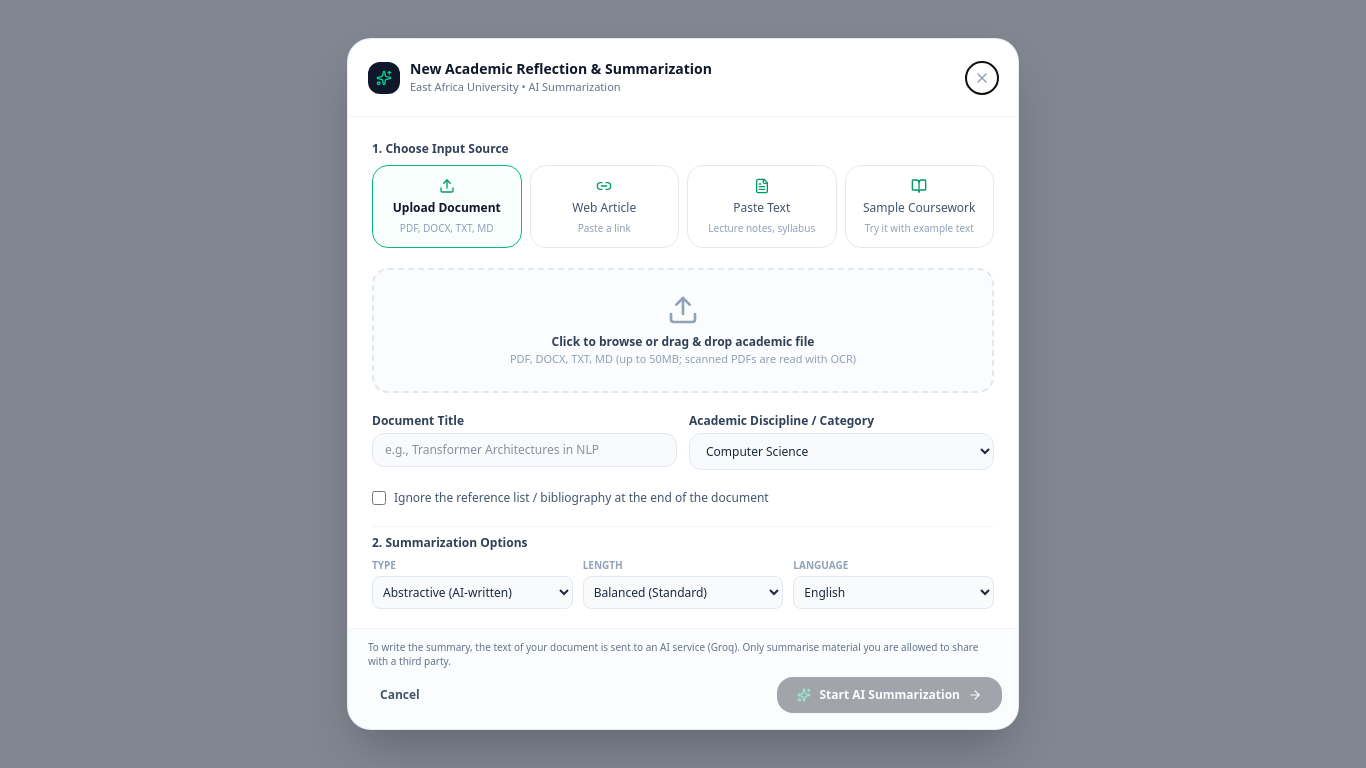
Test case: NewSummaryModal: web articles › fetches a valid link (button or Enter) and shows the page title
Click the button "Web Article Paste a link": (604, 207) [530,165,679,248]
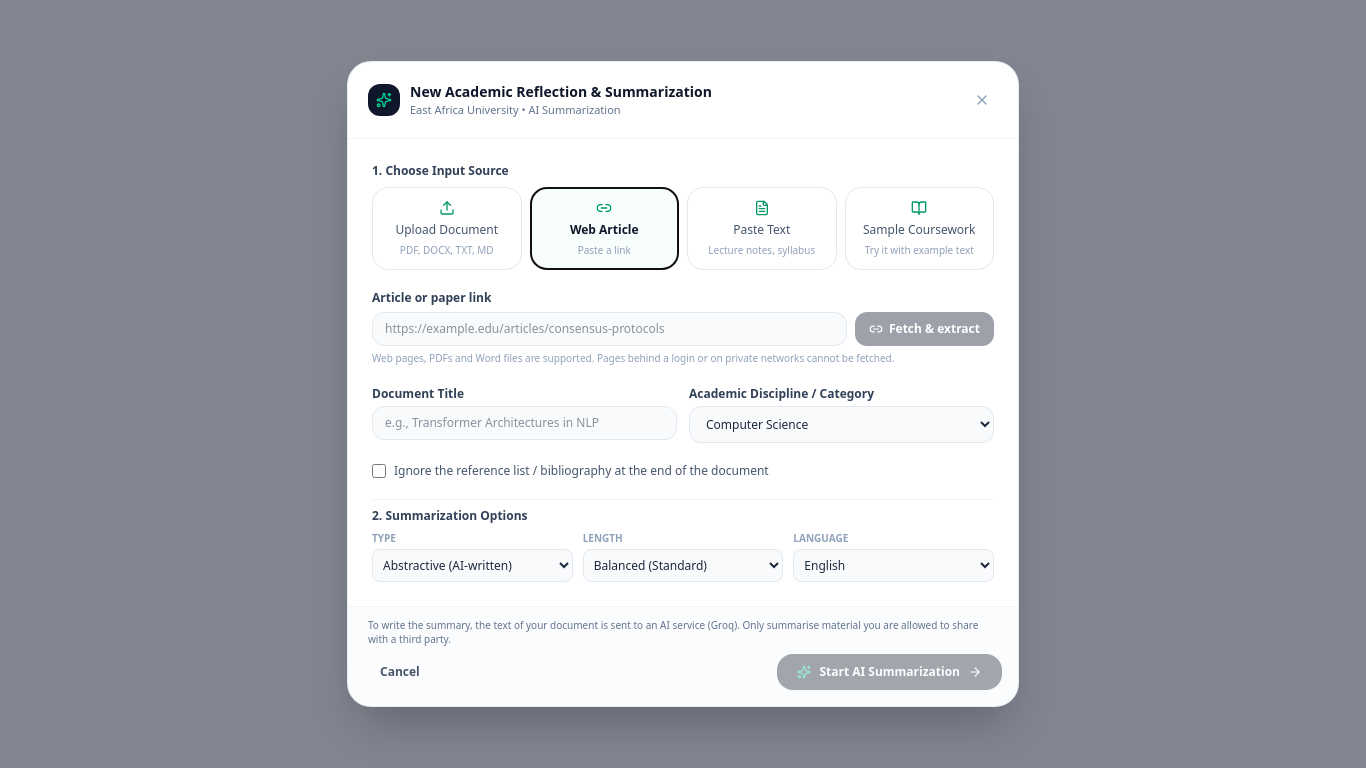
In the field labelled "Article or paper link": (610, 329) [372,312,847,346], type "https://example.edu/consensus"
Then press Enter
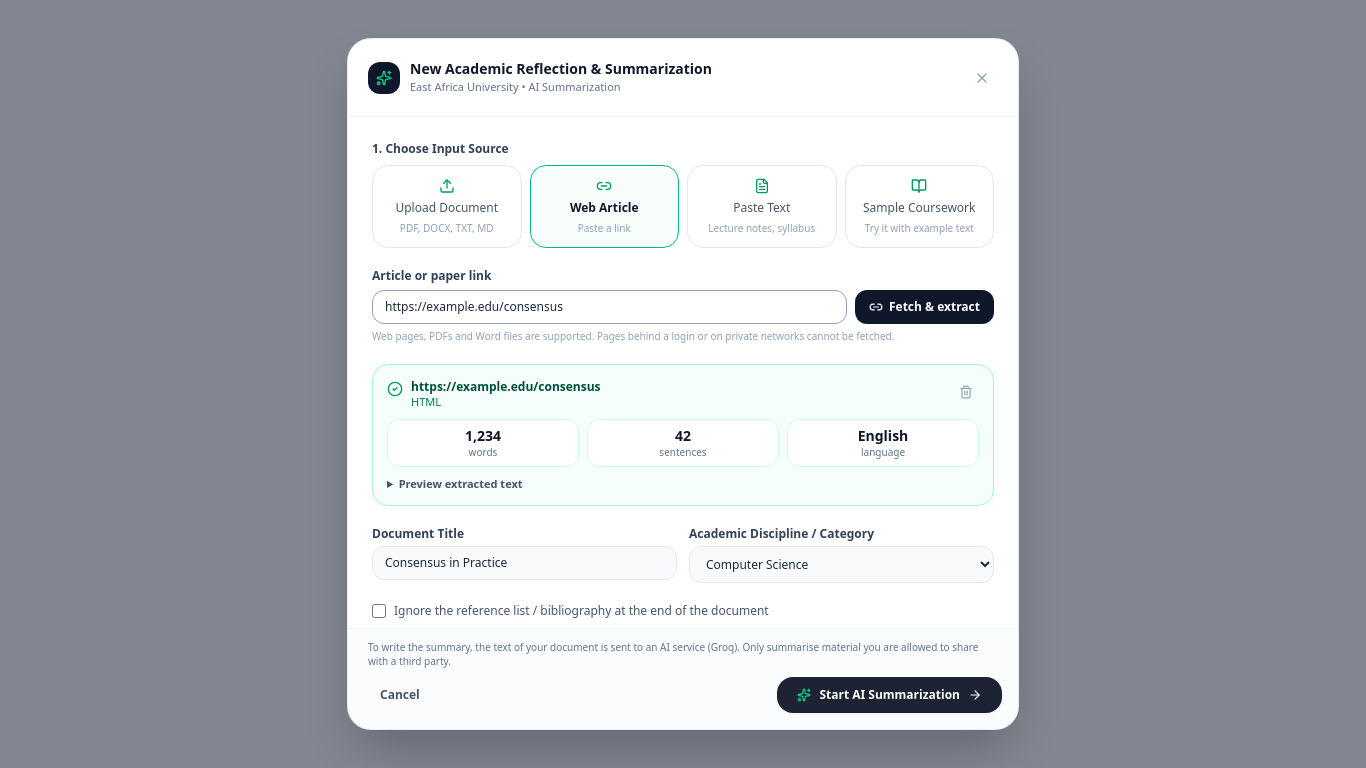
Expected: the text "https://example.edu/consensus" is shown, [411,379,600,395]
Expected: the field labelled "Document Title" holds "Consensus in Practice", [372,546,677,580]
Expected: the button "Start AI Summarization" is enabled, [777,677,1002,713]
